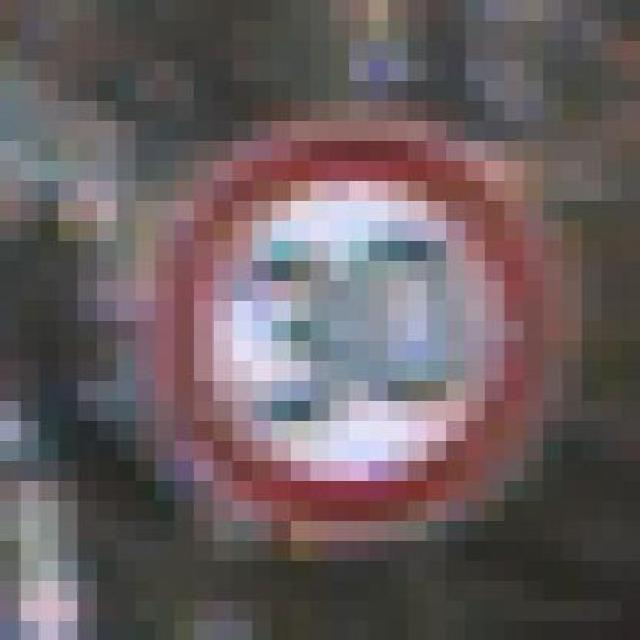Speed Limit 30 KMPh: (116, 80, 562, 580)
